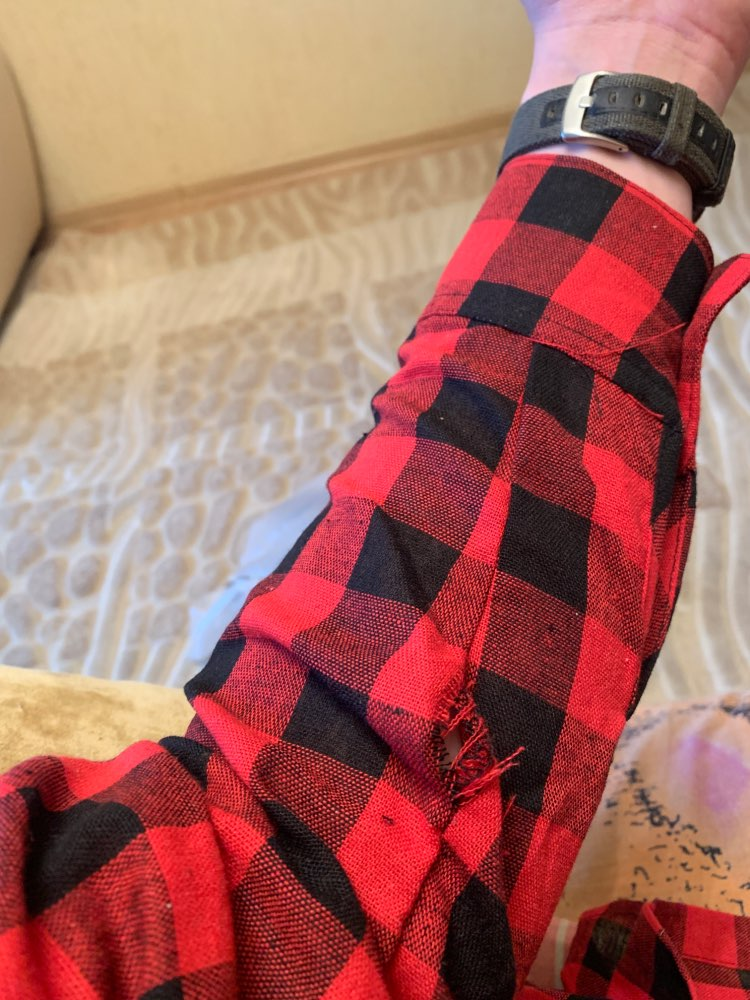shirts: (26, 170, 693, 1000)
